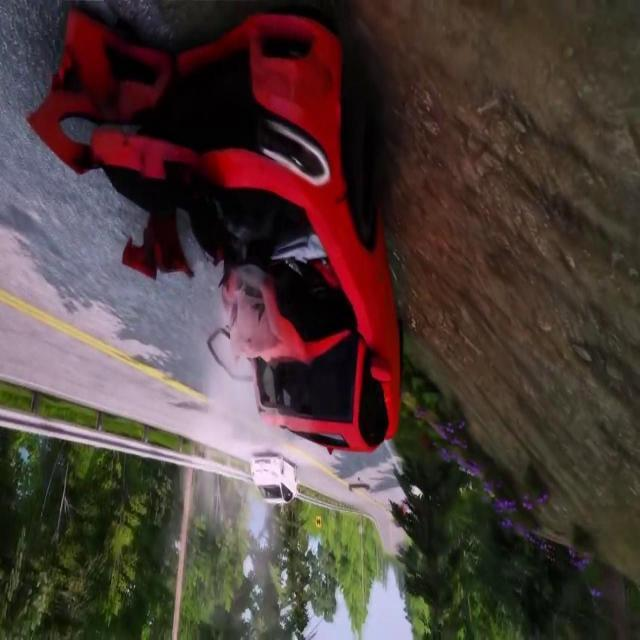severe: (23, 11, 407, 457)
